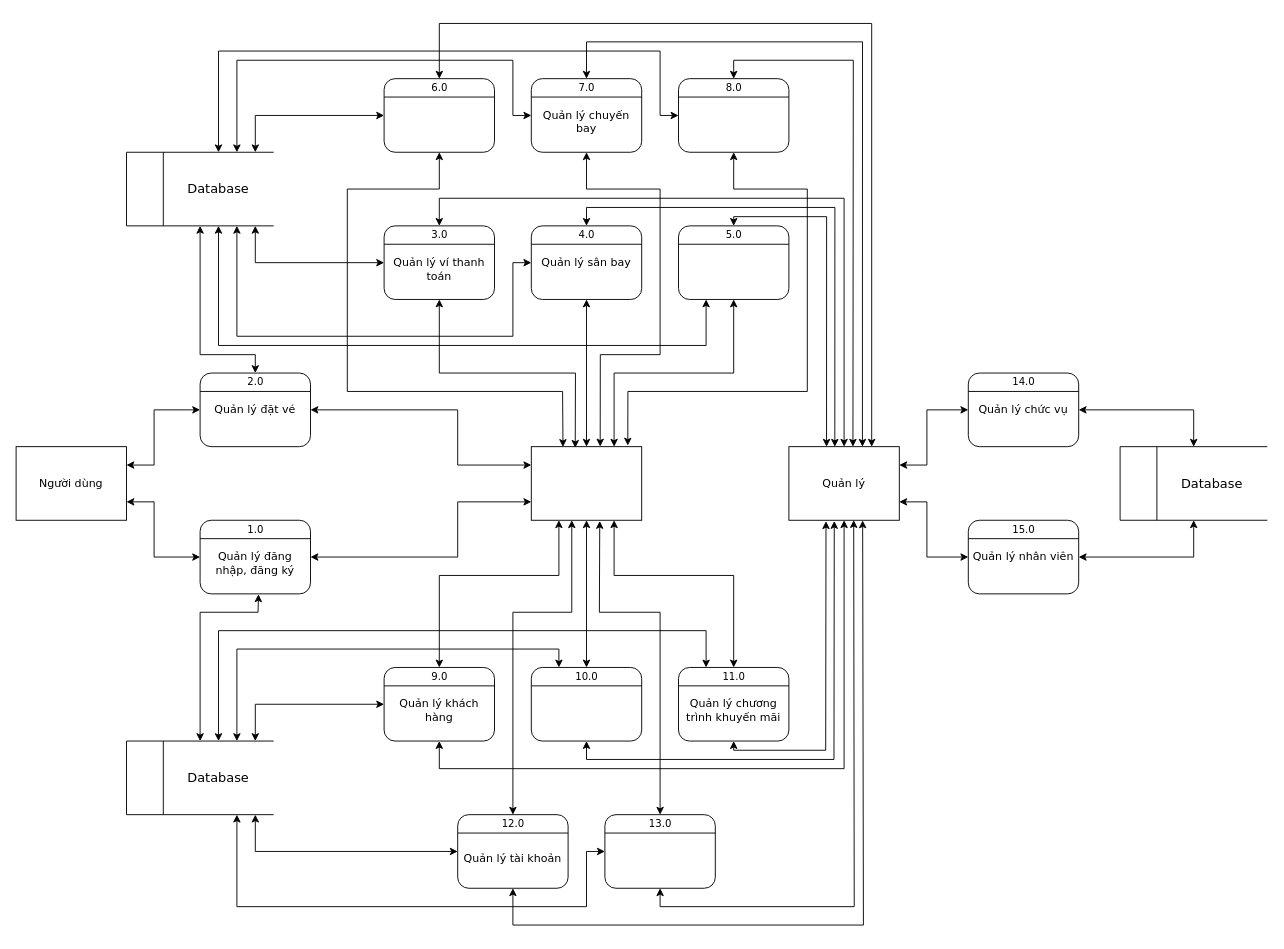
This 1284x949 diagram has some shape labels left out. The box of each missing label's shape, as (x1, y1, x2, y2) in pixels:
Nhân viên: (530, 446, 642, 520)
Quản lý hãng hàng không: (678, 225, 789, 299)
Quản lý hạng khách hàng: (678, 78, 789, 152)
Quản lý máy bay: (383, 78, 494, 152)
Quản lý vé máy bay: (530, 667, 642, 741)
Thống kê doanh thu: (604, 814, 715, 888)
